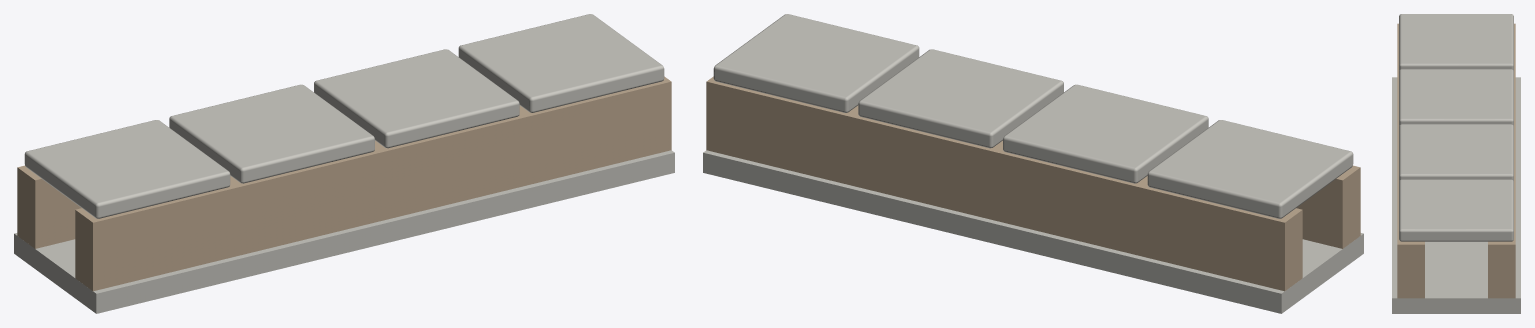
The model's file is korean-hanok-village-and-street-ondol-flue-run-bcb58056__38055.glb.
The picture shows the model from 3 angles, left to right: view 1: azimuth 30°, elevation 25°; view 2: azimuth 150°, elevation 25°; view 3: azimuth 270°, elevation 25°; orthographic projection. The views are drawn at different scales.
Visible parts, largest first — view 1: ondol-flue-run; view 2: ondol-flue-run; view 3: ondol-flue-run.
Boxes of the visible parts, bbox=[...] form: ondol-flue-run: bbox=[14, 14, 674, 313]; ondol-flue-run: bbox=[703, 14, 1363, 313]; ondol-flue-run: bbox=[1392, 14, 1520, 313].
Size of the model in its own units: 3 by 0.52 by 0.7398.
